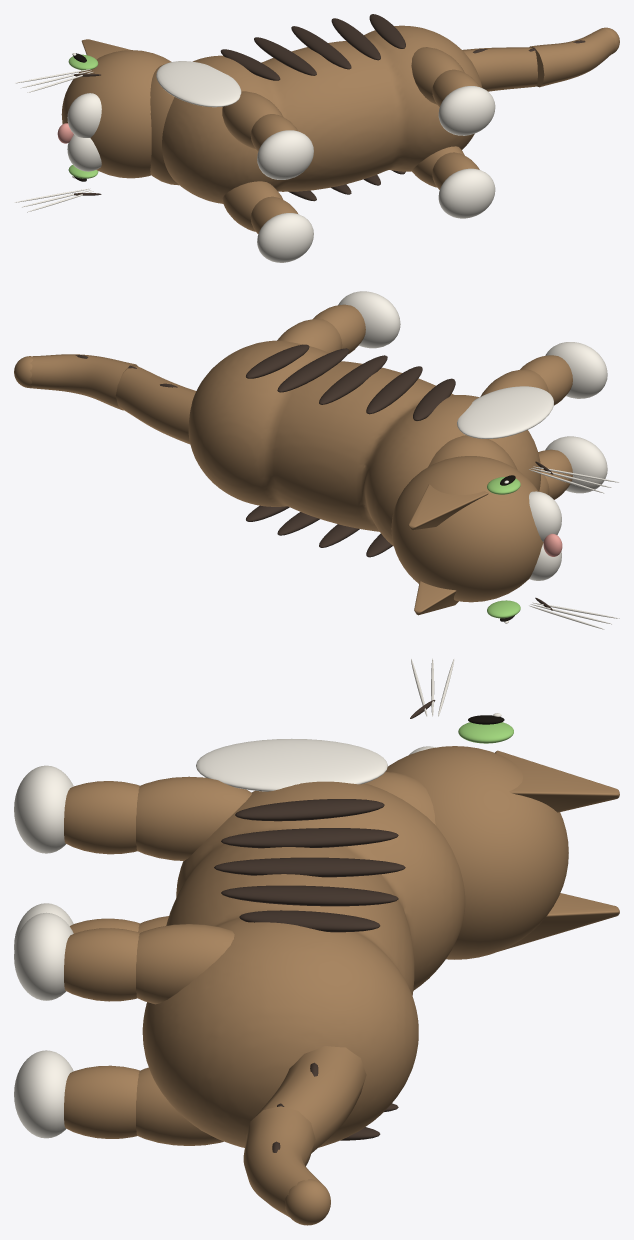
File: cat_v2_tabby_plush.fbx
The picture shows the model from 3 angles, top to bottom: view 1: azimuth 30°, elevation 25°; view 2: azimuth 150°, elevation 25°; view 3: azimuth 270°, elevation 25°; orthographic projection. The views are drawn at different scales.
Parts seen in each view (by area): view 1: Fur_Torso, Fur_Head, White_Chest, Fur_Tail_Tip, Fur_Tail_Base, White_R_BLeg_Paw, White_R_Leg_Paw, White_L_BLeg_Paw, White_L_Leg_Paw, Fur_L_Leg_Upper, Fur_NeckRuff, Fur_L_BLeg_Upper (+14 smaller); view 2: Fur_Torso, Fur_Head, Fur_Tail_Base, White_Chest, Fur_Tail_Tip, White_L_BLeg_Paw, White_L_Leg_Paw, White_R_Leg_Paw, Fur_Ear_L, Fur_L_BLeg_Upper, Fur_NeckRuff, Fur_L_BLeg_Lower (+15 smaller); view 3: Fur_Torso, Fur_Head, White_Chest, Fur_L_Leg_Upper, Fur_Tail_Base, Fur_L_BLeg_Upper, Fur_Tail_Tip, Fur_L_BLeg_Lower, Fur_L_Leg_Lower, Fur_R_BLeg_Lower, White_L_BLeg_Paw, White_L_Leg_Paw (+12 smaller).
Boxes of the visible parts, <box> form: Fur_Torso: <box>162,25,482,203</box>; Fur_Head: <box>61,50,171,178</box>; White_Chest: <box>156,61,241,107</box>; Fur_Tail_Tip: <box>529,29,616,87</box>; Fur_Tail_Base: <box>462,47,537,91</box>; White_R_BLeg_Paw: <box>438,168,495,218</box>; White_R_Leg_Paw: <box>257,213,313,262</box>; White_L_BLeg_Paw: <box>438,86,495,135</box>; White_L_Leg_Paw: <box>257,130,313,179</box>; Fur_L_Leg_Upper: <box>222,91,283,148</box>; Fur_NeckRuff: <box>150,64,178,185</box>; Fur_L_BLeg_Upper: <box>411,47,464,104</box>; Fur_Torso: <box>188,340,540,546</box>; Fur_Head: <box>391,456,543,602</box>; Fur_Tail_Base: <box>115,366,196,444</box>; White_Chest: <box>457,386,553,438</box>; Fur_Tail_Tip: <box>29,354,137,410</box>; White_L_BLeg_Paw: <box>338,291,400,348</box>; White_L_Leg_Paw: <box>545,342,607,398</box>; White_R_Leg_Paw: <box>545,436,607,493</box>; Fur_Ear_L: <box>408,484,488,530</box>; Fur_L_BLeg_Upper: <box>277,318,342,353</box>; Fur_NeckRuff: <box>428,435,517,469</box>; Fur_L_BLeg_Lower: <box>313,304,365,354</box>; Fur_Torso: <box>142,781,465,1147</box>; Fur_Head: <box>385,746,568,959</box>; White_Chest: <box>196,738,387,791</box>; Fur_L_Leg_Upper: <box>136,776,251,860</box>; Fur_Tail_Base: <box>255,1046,366,1153</box>; Fur_L_BLeg_Upper: <box>136,924,234,1004</box>; Fur_Tail_Tip: <box>243,1106,321,1217</box>; Fur_L_BLeg_Lower: <box>64,928,139,1001</box>; Fur_L_Leg_Lower: <box>64,781,139,854</box>; Fur_R_BLeg_Lower: <box>64,1065,139,1138</box>; White_L_BLeg_Paw: <box>14,912,73,1000</box>; White_L_Leg_Paw: <box>14,765,73,853</box>.
Size of the model in its own units: 482 by 271 by 110.
